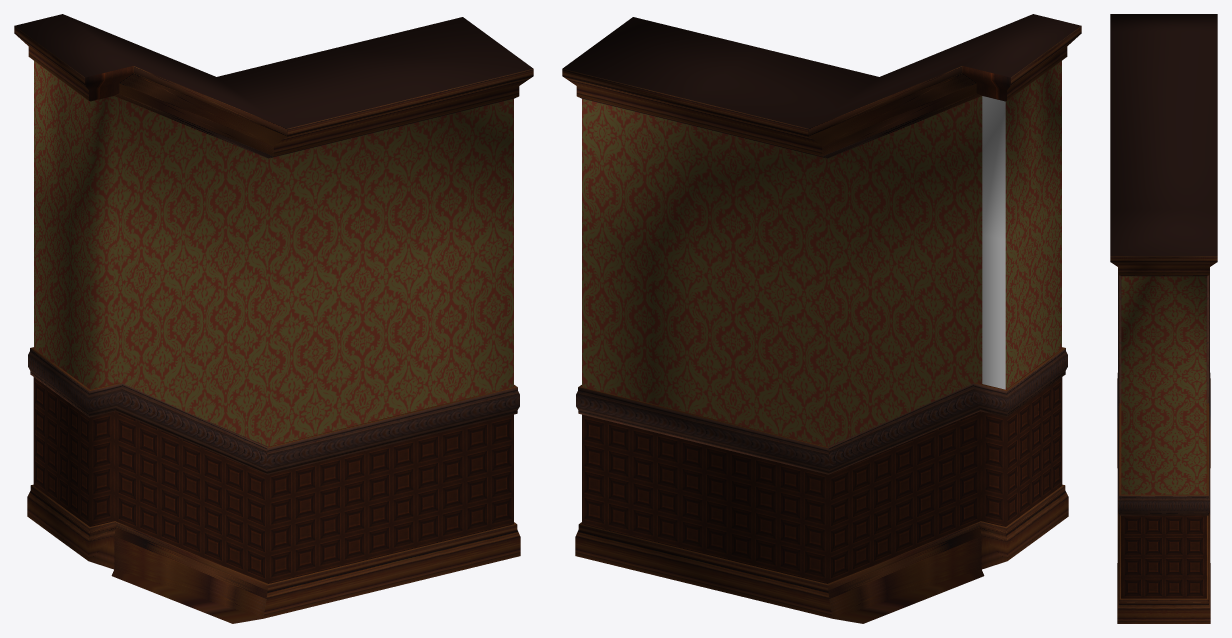
The model's file is WallStepUP.fbx.
3 renders of one model, left to right at view 1: azimuth 30°, elevation 25°; view 2: azimuth 150°, elevation 25°; view 3: azimuth 270°, elevation 25°, orthographic. The views are drawn at different scales.
Parts seen in each view (by area): view 1: StairStepupforRound; view 2: StairStepupforRound; view 3: StairStepupforRound.
Part boxes in pixels (x1,y1,x2,y2): StairStepupforRound: [14, 14, 533, 623]; StairStepupforRound: [562, 14, 1081, 623]; StairStepupforRound: [1110, 14, 1217, 623].
Size of the model in its own units: 356 by 448 by 97.41.
